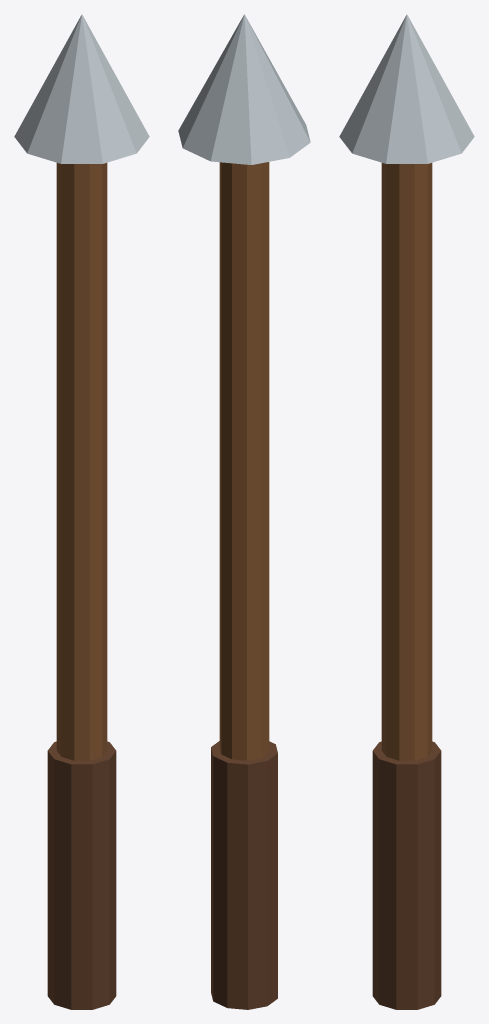
Rendered from spear.glb.
3 views of the same model, side by side, from view 1: azimuth 90°, elevation 25°; view 2: azimuth 150°, elevation 25°; view 3: azimuth 270°, elevation 25° (orthographic).
Visible parts, largest first — view 1: shaft, spear_grip, point; view 2: shaft, spear_grip, point; view 3: shaft, spear_grip, point.
Part boxes in pixels (bbox=[...]): shaft: bbox=[56, 163, 107, 760]; spear_grip: bbox=[47, 741, 116, 1009]; point: bbox=[14, 14, 149, 163]; shaft: bbox=[219, 162, 269, 760]; spear_grip: bbox=[211, 741, 277, 1009]; point: bbox=[178, 14, 310, 164]; shaft: bbox=[381, 163, 432, 760]; spear_grip: bbox=[372, 741, 441, 1009]; point: bbox=[339, 14, 474, 163].
Size of the model in its own units: 0.1427 by 1.2 by 0.15.
